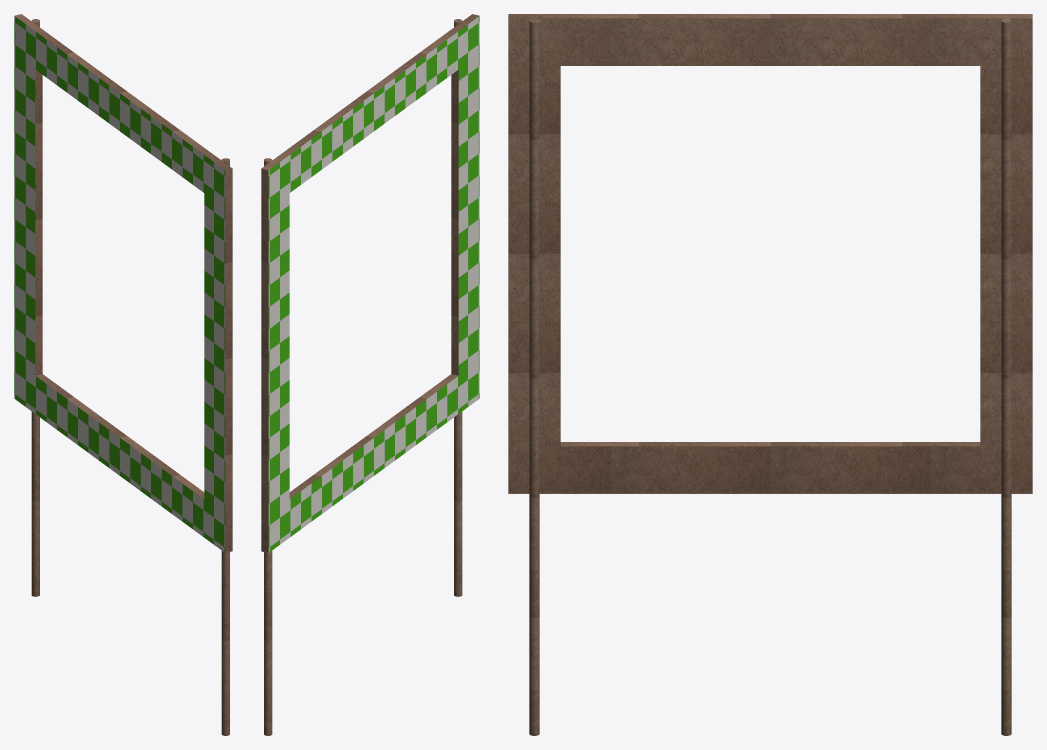
File: halfmeter_gate.dae
3 views of the same model, side by side, from view 1: azimuth 30°, elevation 25°; view 2: azimuth 150°, elevation 25°; view 3: azimuth 270°, elevation 25° (orthographic). The views are drawn at different scales.
Visible parts, largest first — view 1: SketchUp (×3); view 2: SketchUp (×3); view 3: SketchUp (×2).
Boxes of the visible parts, x1,y1,x2,y2 form: SketchUp (×3): (14, 14, 232, 735); SketchUp (×3): (261, 14, 479, 735); SketchUp (×2): (508, 14, 1032, 735).
Size of the model in its own units: 1.57 by 39.37 by 59.06.
2 materials, 2 textured.
